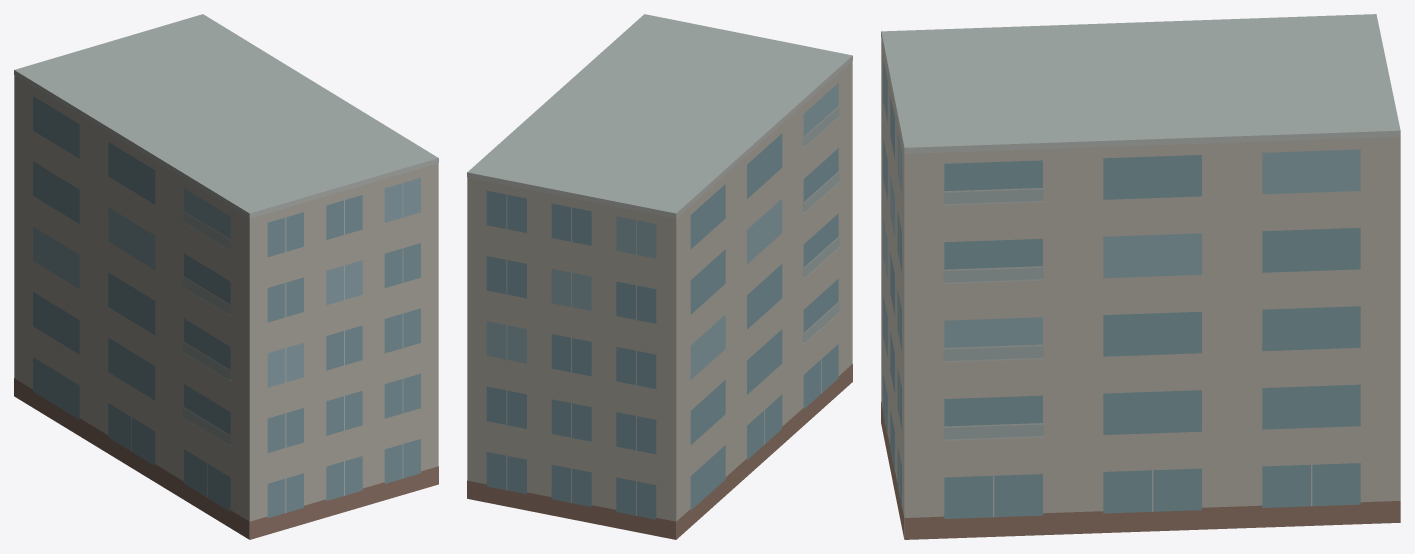
Rendered from survey-upis-32756499.glb.
3 views of the same model, side by side, from view 1: azimuth 30°, elevation 25°; view 2: azimuth 150°, elevation 25°; view 3: azimuth 270°, elevation 25° (orthographic). The views are drawn at different scales.
Visible parts, largest first — view 1: survey-upis-32756499.tmp; view 2: survey-upis-32756499.tmp; view 3: survey-upis-32756499.tmp.
Part boxes in pixels (bbox=[...]): survey-upis-32756499.tmp: bbox=[14, 14, 438, 539]; survey-upis-32756499.tmp: bbox=[467, 14, 852, 539]; survey-upis-32756499.tmp: bbox=[881, 14, 1400, 539].
Size of the model in its own units: 11.43 by 15.6 by 18.74.
